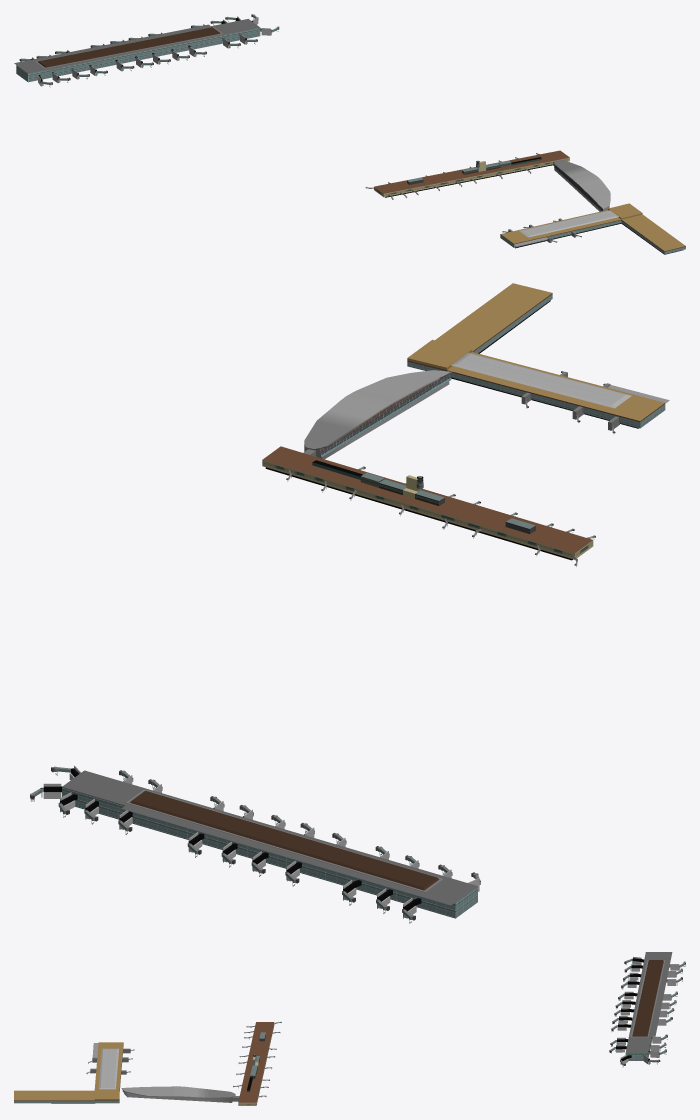
The model's file is zhrgeofs.gltf.
3 views of the same model, one above another, from view 1: azimuth 30°, elevation 25°; view 2: azimuth 150°, elevation 25°; view 3: azimuth 270°, elevation 25° (orthographic). The views are drawn at different scales.
Visible parts, largest first — view 1: Cube, Cube.002, Cube.004, Plane, Cube.003, Cylinder, Cube.005, Cube.001; view 2: Cube, Cube.002, Cube.004, Plane, Cube.003, Cylinder, Cube.005, Cube.001; view 3: Cube.002, Cube, Cube.003, Cube.004, Plane, Cylinder, Cube.001, Cube.006, Cube.005.
Part boxes in pixels (box(x1,y1,x2,y2)): Cube: box(14, 19, 260, 82); Cube.002: box(500, 203, 685, 254); Cube.004: box(374, 150, 569, 197); Plane: box(554, 160, 610, 211); Cube.003: box(30, 16, 271, 86); Cylinder: box(19, 14, 279, 85); Cube.005: box(407, 157, 541, 184); Cube.001: box(35, 27, 222, 68); Cube: box(62, 770, 477, 918); Cube.002: box(407, 283, 669, 428); Cube.004: box(262, 446, 593, 560); Plane: box(304, 370, 452, 459); Cube.003: box(43, 765, 479, 918); Cylinder: box(30, 766, 480, 920); Cube.005: box(312, 460, 535, 533); Cube.001: box(126, 789, 443, 892); Cube.002: box(14, 1042, 123, 1103); Cube: box(625, 952, 672, 1060); Cube.003: box(616, 956, 679, 1064); Cube.004: box(238, 1022, 274, 1105); Plane: box(121, 1086, 235, 1102); Cylinder: box(609, 958, 685, 1065); Cube.001: box(630, 960, 665, 1037); Cube.006: box(86, 1022, 281, 1097); Cube.005: box(247, 1032, 265, 1091).
Bounding box in the file's own units: 1370 × 68.73 × 2638.
Materials: 4 (1 with a texture image).
